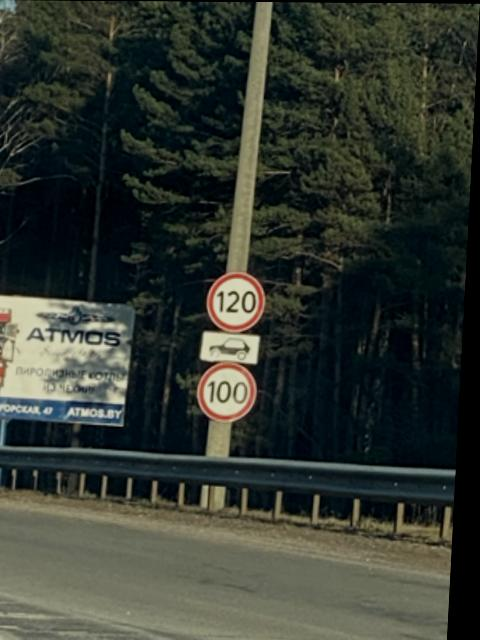limit100: (198, 355, 269, 428)
limit120: (204, 267, 272, 336)
